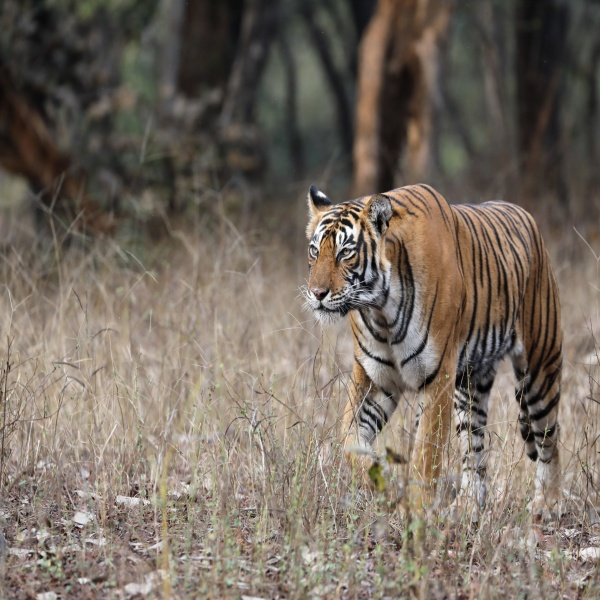Tiger: (301, 175, 575, 543)
